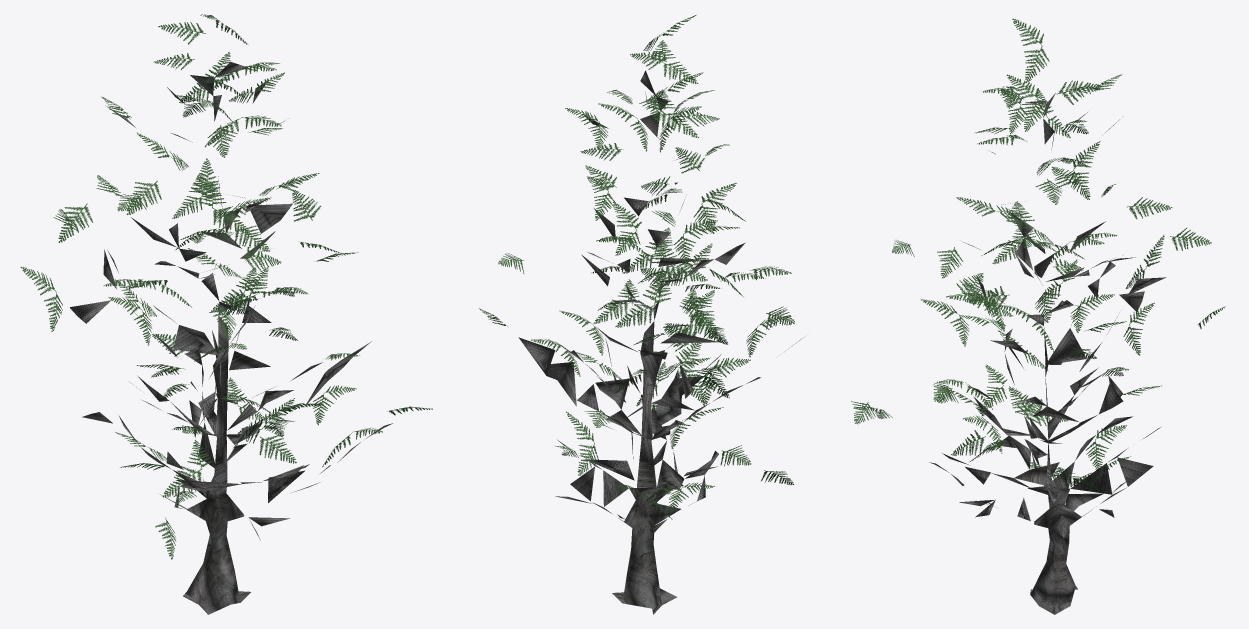
File: tree_evergreen_far.glb
3 renders of one model, left to right at view 1: azimuth 30°, elevation 25°; view 2: azimuth 150°, elevation 25°; view 3: azimuth 270°, elevation 25°, orthographic. The views are drawn at different scales.
Visible parts, largest first — view 1: Evergreen Tree; view 2: Evergreen Tree; view 3: Evergreen Tree.
Part boxes in pixels (x1,y1,x2,y2): Evergreen Tree: (20, 14, 432, 614); Evergreen Tree: (479, 15, 805, 614); Evergreen Tree: (851, 18, 1225, 614).
Size of the model in its own units: 6.88 by 13.67 by 8.63.
Materials: 2 (2 with a texture image).
